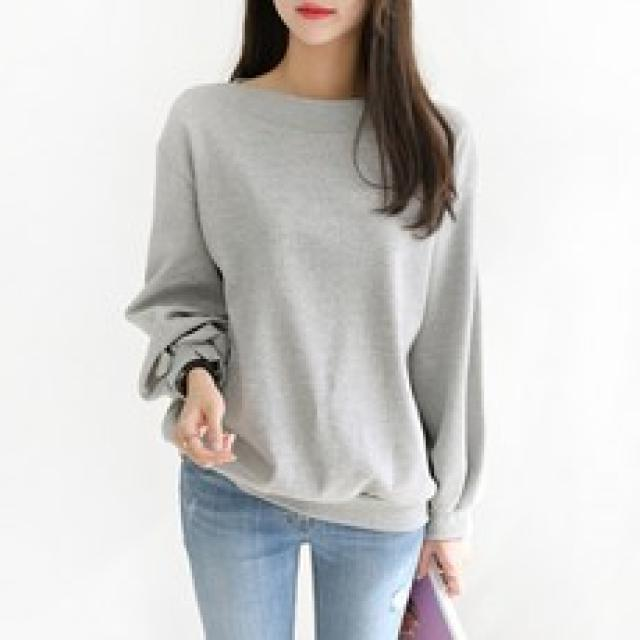Standing: (127, 0, 502, 640)
